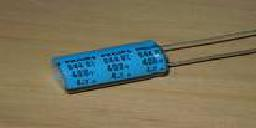Electrolytic Capacitor: (48, 35, 176, 98)
